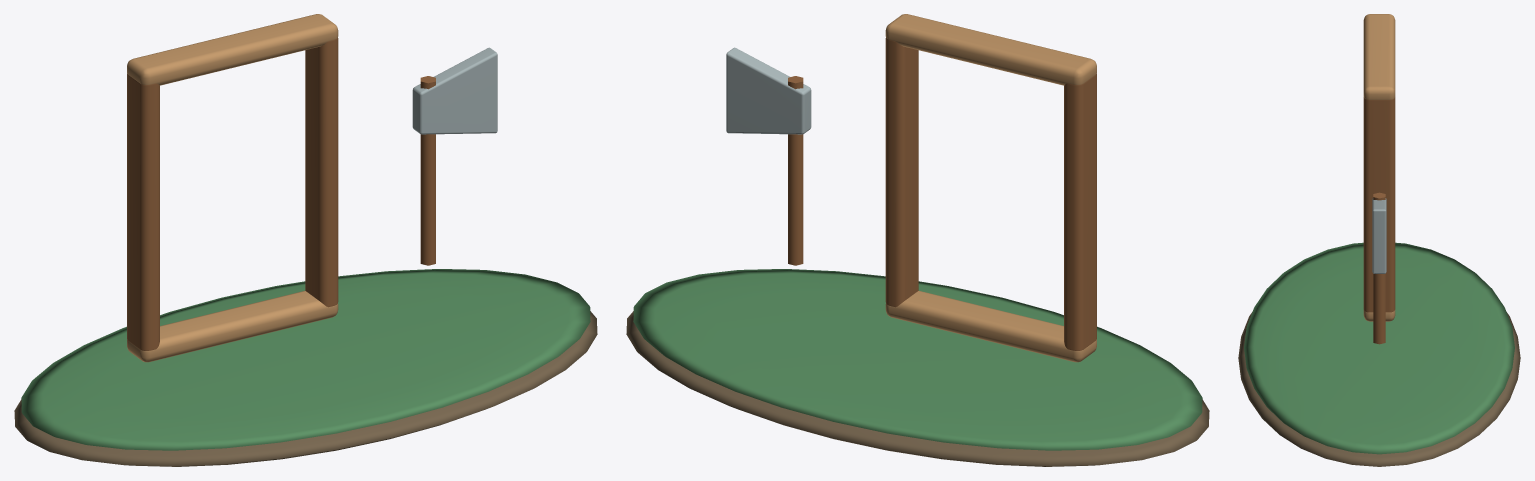
The model's file is empty-work.glb.
The picture shows the model from 3 angles, left to right: view 1: azimuth 30°, elevation 25°; view 2: azimuth 150°, elevation 25°; view 3: azimuth 270°, elevation 25°; orthographic projection. The views are drawn at different scales.
Visible parts, largest first — view 1: empty-work_surface_01, empty-work_surface_02, empty-work_surface_03, empty-work_surface_00, empty-work_surface_04; view 2: empty-work_surface_01, empty-work_surface_02, empty-work_surface_03, empty-work_surface_00, empty-work_surface_04; view 3: empty-work_surface_01, empty-work_surface_02, empty-work_surface_00, empty-work_surface_03, empty-work_surface_04.
Boxes of the visible parts, x1,y1,x2,y2 form: empty-work_surface_01: [21, 269, 590, 450]; empty-work_surface_02: [127, 37, 435, 350]; empty-work_surface_03: [127, 14, 338, 362]; empty-work_surface_00: [14, 311, 597, 466]; empty-work_surface_04: [412, 47, 497, 134]; empty-work_surface_01: [633, 269, 1202, 450]; empty-work_surface_02: [788, 37, 1096, 350]; empty-work_surface_03: [885, 14, 1096, 362]; empty-work_surface_00: [626, 311, 1209, 466]; empty-work_surface_04: [726, 47, 811, 134]; empty-work_surface_01: [1244, 242, 1514, 454]; empty-work_surface_02: [1363, 97, 1395, 344]; empty-work_surface_00: [1238, 312, 1520, 466]; empty-work_surface_03: [1363, 14, 1395, 321]; empty-work_surface_04: [1372, 198, 1386, 273].
Bounding box in the file's own units: 4.56 × 2.86 × 2.5.
